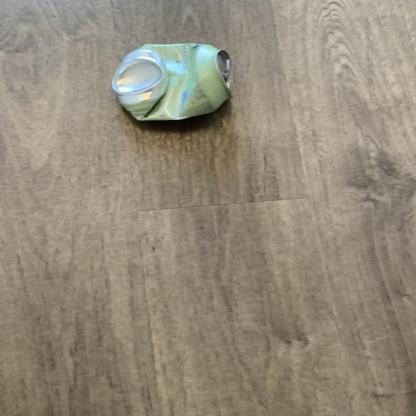trash: (107, 41, 238, 137)
